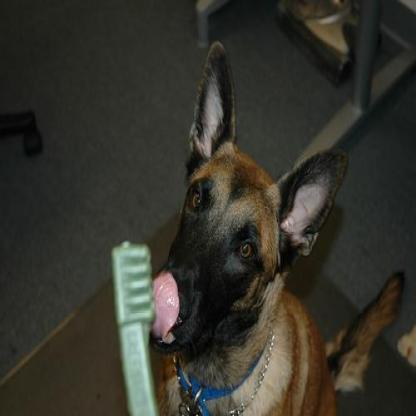malinois: (146, 35, 403, 414)
